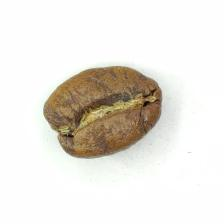NG: (57, 82, 156, 141)
